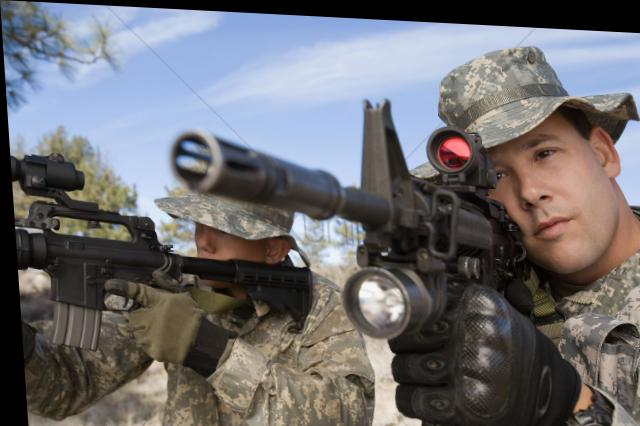other: (383, 44, 640, 424), (152, 170, 362, 421)
